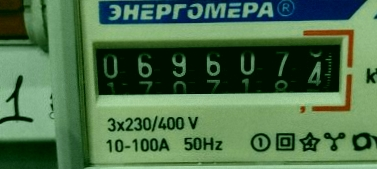0: (100, 50, 120, 79), (236, 48, 255, 75)
4: (304, 59, 323, 87)
6: (203, 48, 221, 76), (134, 51, 152, 78)
7: (271, 48, 290, 78)
9: (168, 51, 187, 79)
screen: (79, 25, 359, 115)
